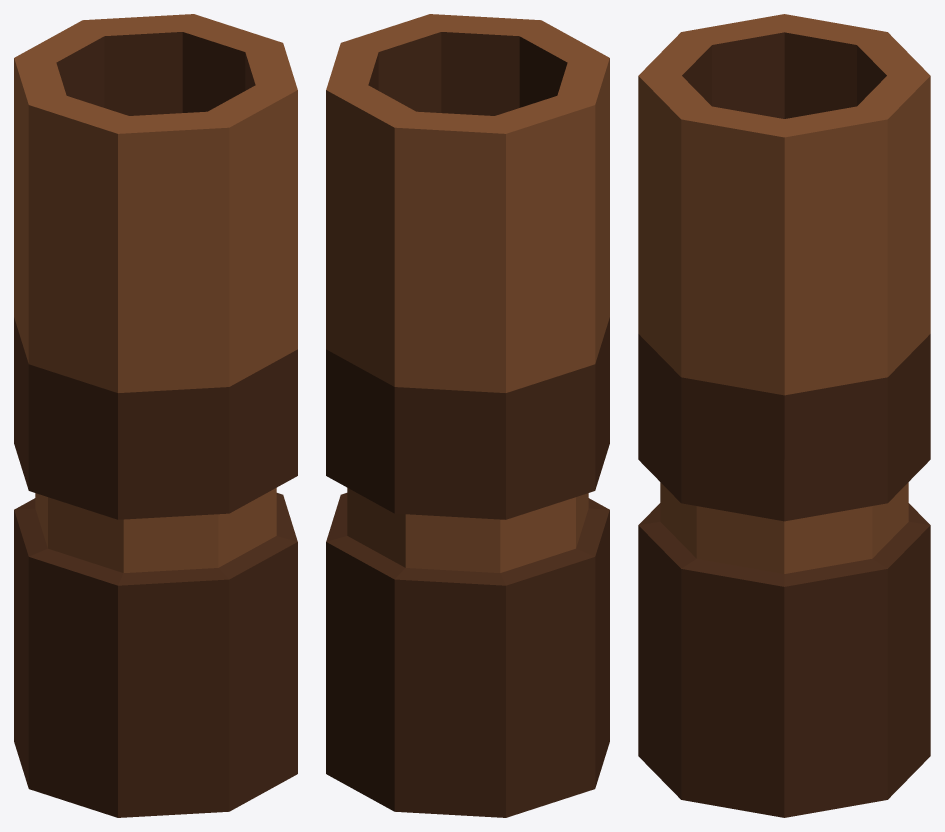
The model's file is chimney.fbx.
The picture shows the model from 3 angles, left to right: view 1: azimuth 30°, elevation 25°; view 2: azimuth 150°, elevation 25°; view 3: azimuth 270°, elevation 25°; orthographic projection.
Visible parts, largest first — view 1: chimney; view 2: chimney; view 3: chimney.
Part boxes in pixels (bbox=[...]): chimney: bbox=[14, 14, 297, 817]; chimney: bbox=[326, 14, 609, 817]; chimney: bbox=[638, 14, 930, 817].
Size of the model in its own units: 52.35 by 135 by 52.35.
